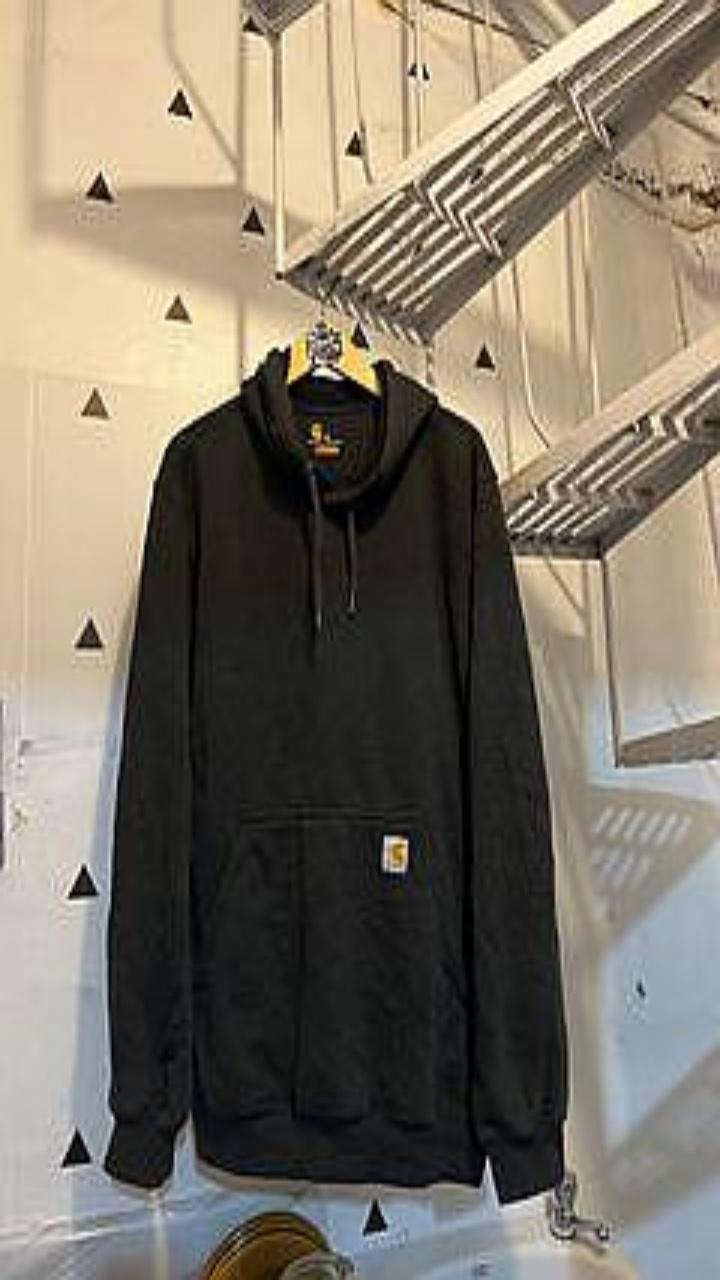Hoodie: (104, 348, 567, 1202)
